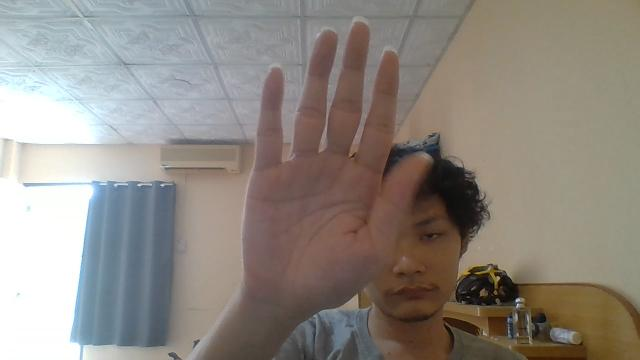Stop: (238, 16, 420, 316)
